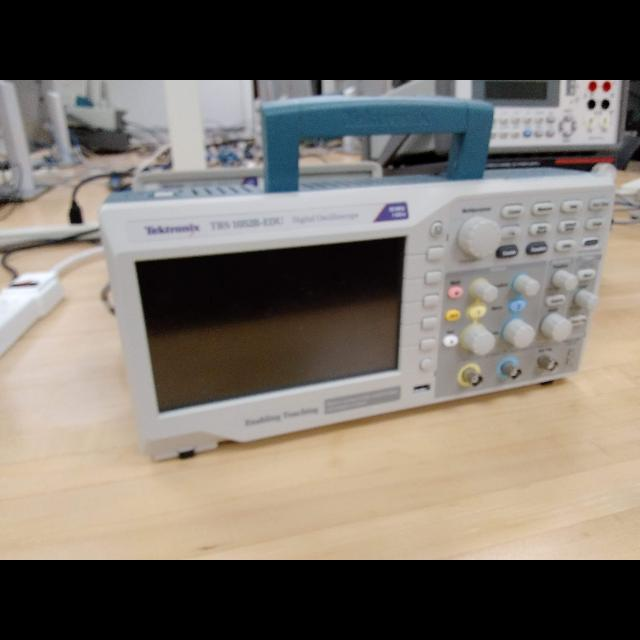Digital-Oscilloscope: (104, 181, 614, 457)
